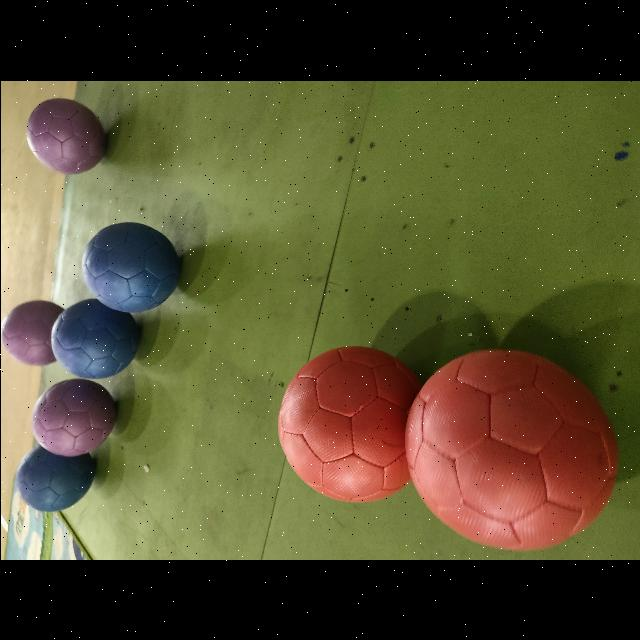B: (82, 222, 178, 312), (50, 300, 138, 378), (15, 446, 94, 510)
P: (31, 378, 114, 456), (26, 98, 104, 172), (0, 300, 62, 366)
R: (404, 350, 616, 550), (277, 346, 417, 502)
